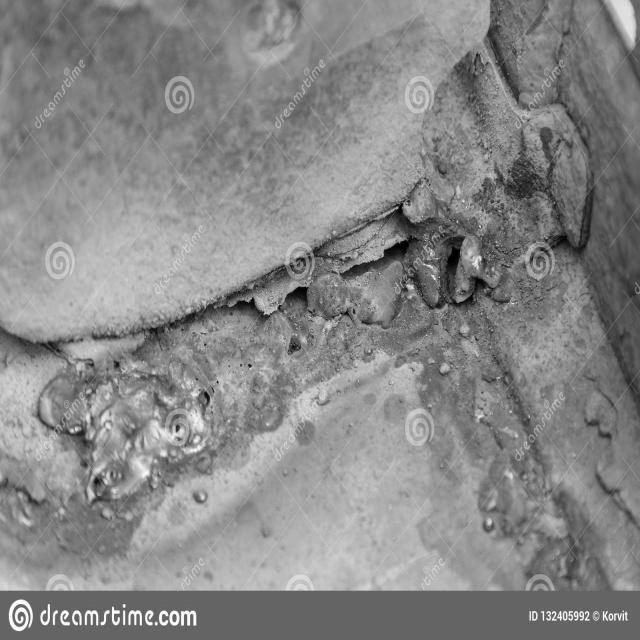Bad Welding: (39, 177, 523, 511)
